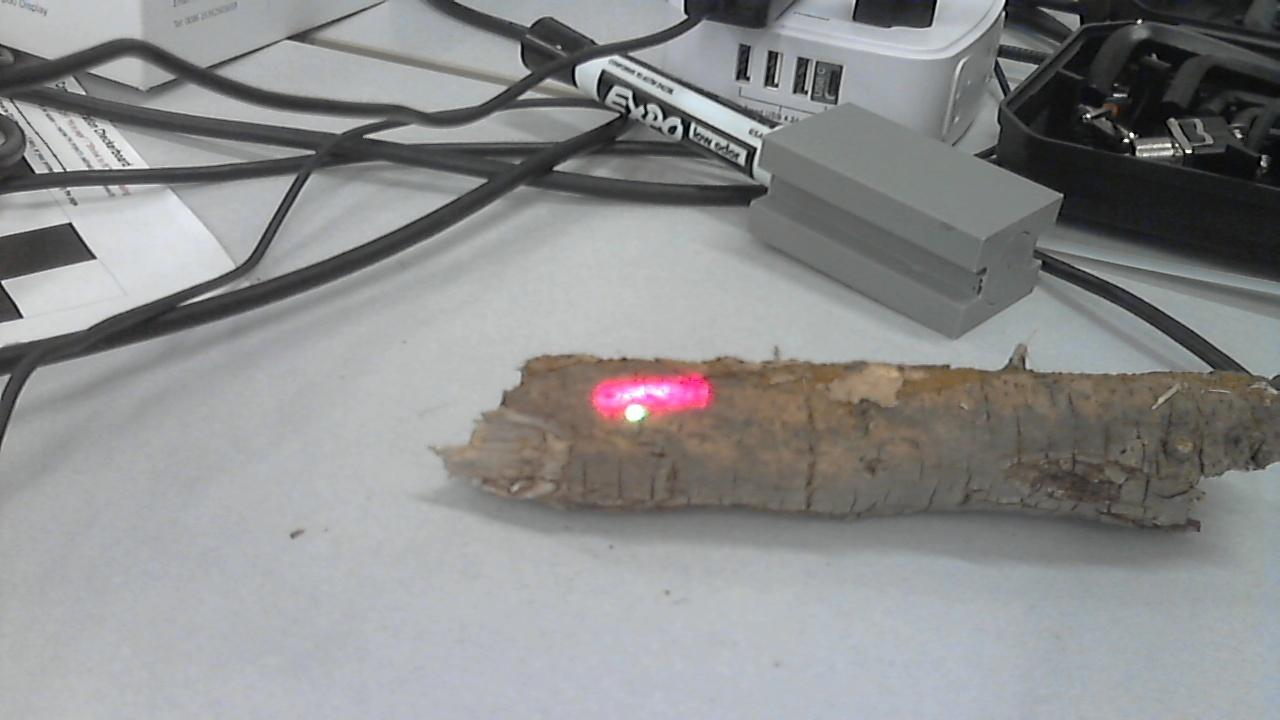Object tree branch - Material wood - Pdfname pipoaepaf: (592, 370, 714, 426)
